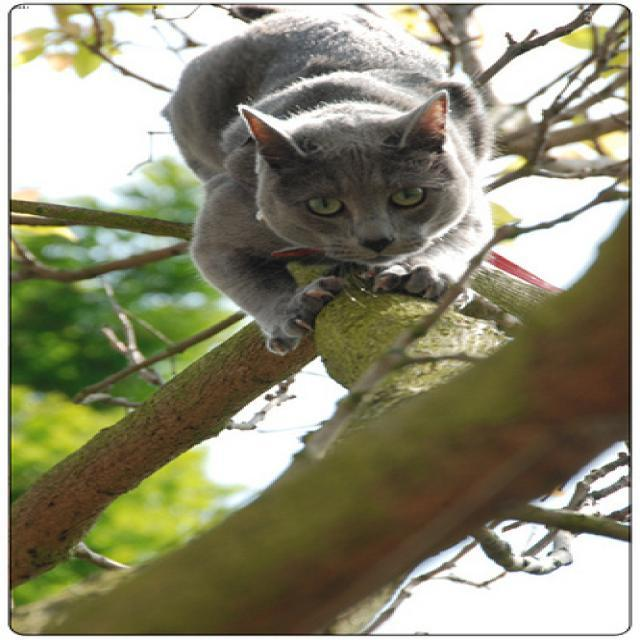Russian_Blue: (231, 85, 477, 266)
